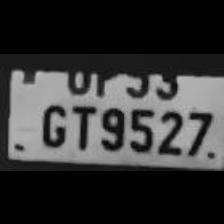2: (153, 105, 183, 156)
3: (150, 56, 180, 96)
5: (124, 102, 154, 152), (119, 56, 151, 96)
7: (180, 103, 214, 157)
9: (96, 100, 124, 152)
G: (36, 99, 68, 148)
P: (90, 56, 120, 96)
T: (68, 99, 94, 150)
U: (61, 53, 93, 93)
